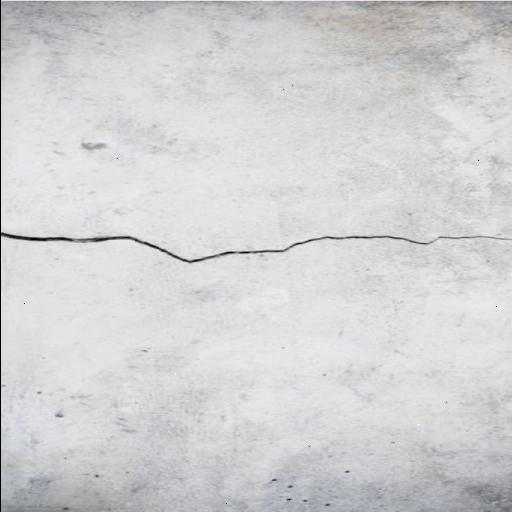spalling: (1, 231, 506, 268)
